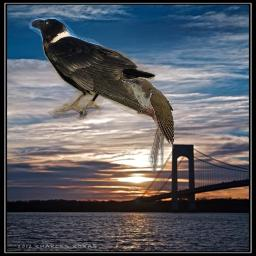Crow: (29, 15, 162, 120)
Cuckoo: (122, 77, 174, 172)
